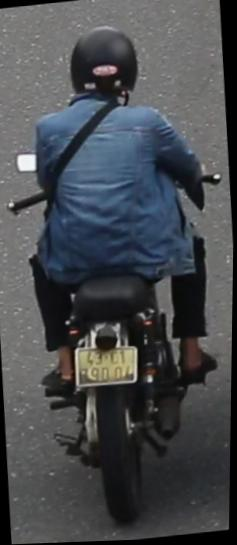LP: (71, 339, 143, 392)
helmet: (64, 19, 144, 107)
